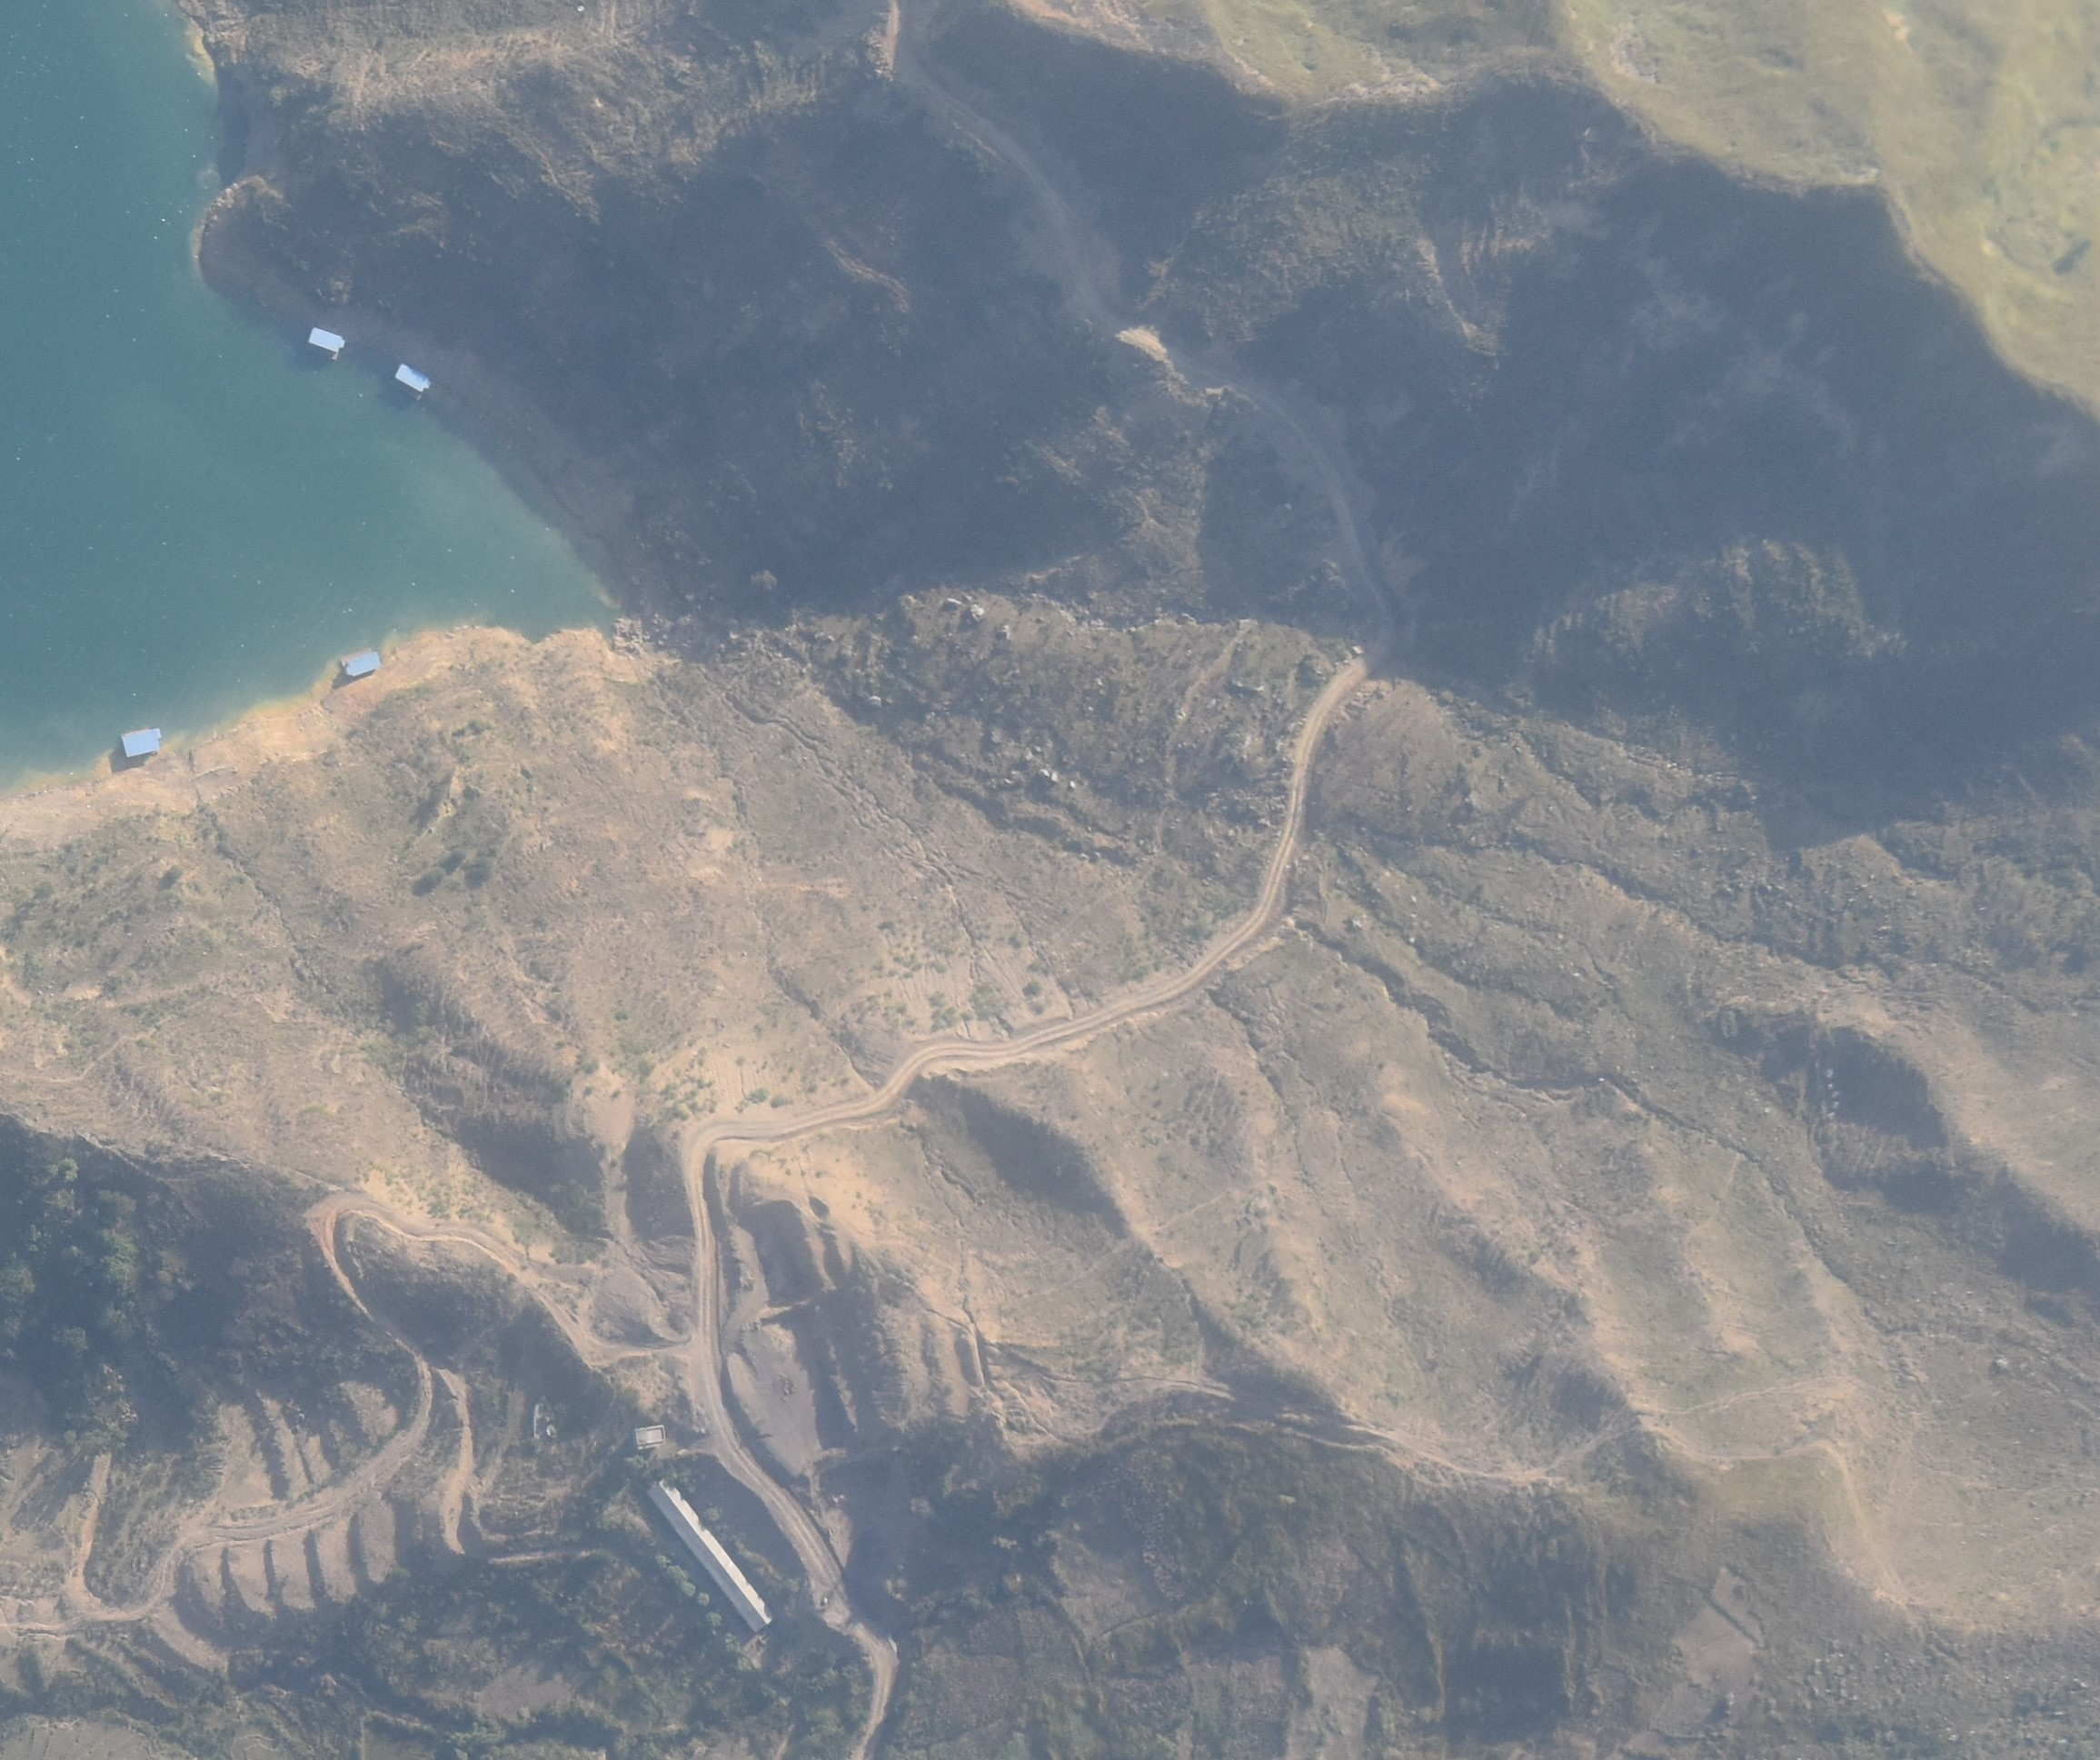building: (646, 1477, 775, 1633), (634, 1425, 664, 1447)
prefabricated-house: (340, 644, 381, 678), (118, 728, 164, 758), (394, 362, 431, 395), (307, 328, 343, 355)
